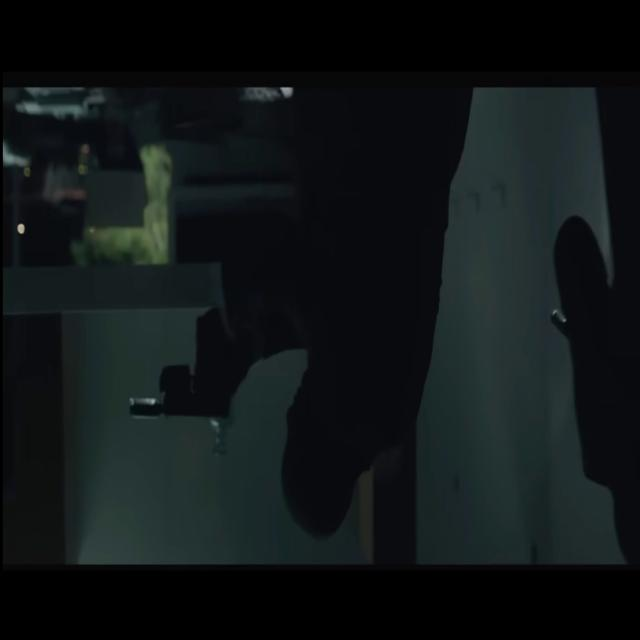weapons: (117, 320, 246, 444)
